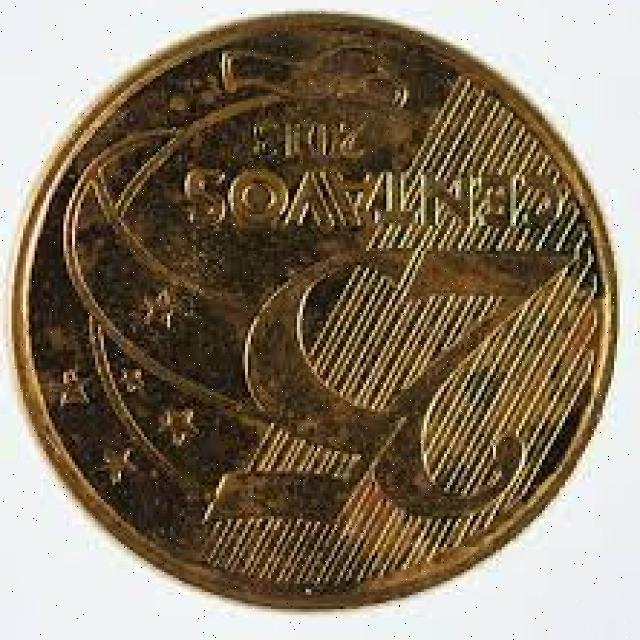25 cent: (9, 16, 605, 618)
